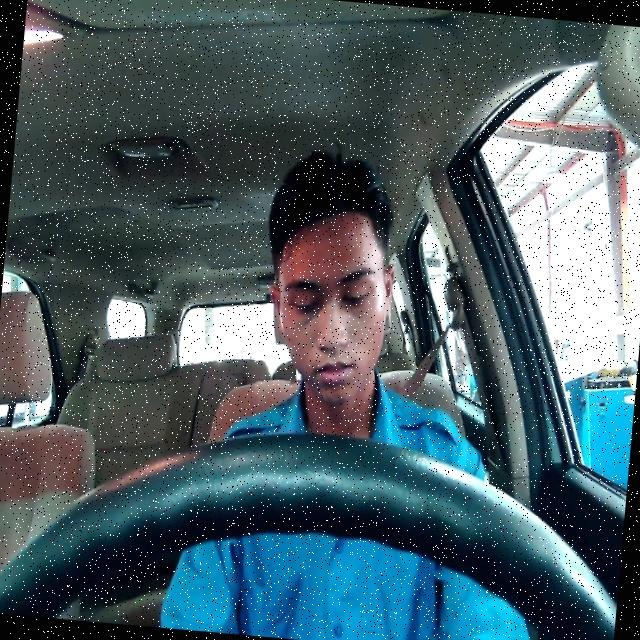focused: (259, 204, 398, 408)
